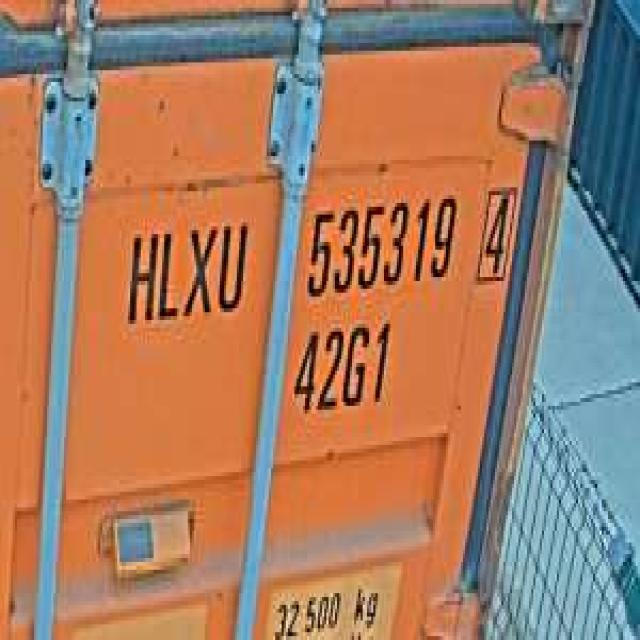dv: (474, 172, 520, 292)
owner: (119, 207, 252, 332)
serial: (301, 184, 458, 300)
size: (288, 312, 397, 422)
